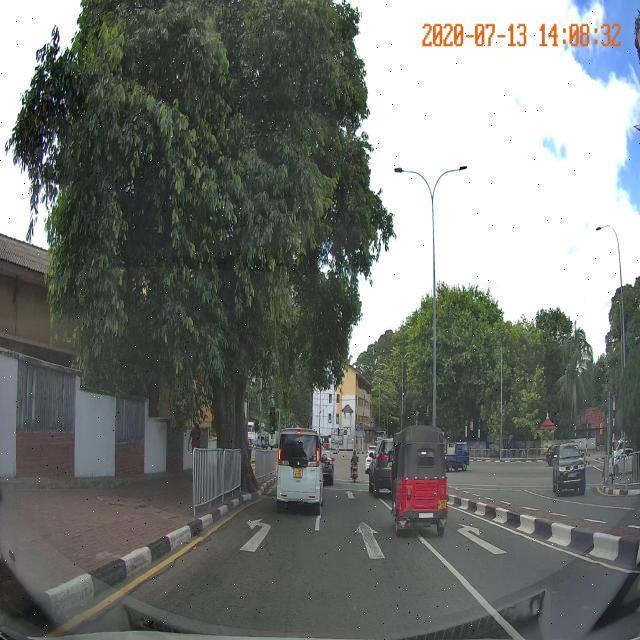forward: (314, 519, 449, 564)
